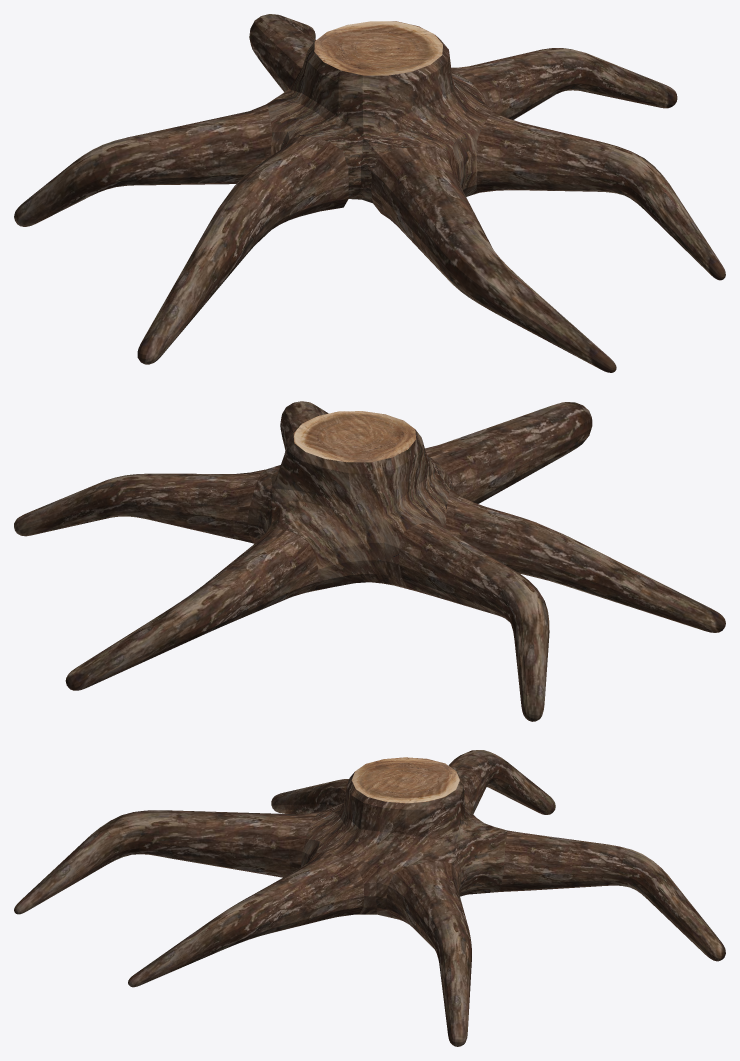
Rendered from Amazonie_Trunk_1.fbx.
3 renders of one model, top to bottom at view 1: azimuth 30°, elevation 25°; view 2: azimuth 150°, elevation 25°; view 3: azimuth 270°, elevation 25°, orthographic. The views are drawn at different scales.
Parts seen in each view (by area): view 1: Plane, Plane.001; view 2: Plane, Plane.001; view 3: Plane, Plane.001.
Part boxes in pixels (x1,y1,x2,y2): Plane: (14,14,725,372); Plane.001: (314,21,442,75); Plane: (14,401,725,721); Plane.001: (293,411,416,462); Plane: (14,750,725,1046); Plane.001: (351,757,459,803).
Size of the model in its own units: 480 by 133 by 545.
